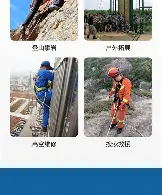safety belt: (32, 69, 52, 100), (111, 84, 128, 109)
